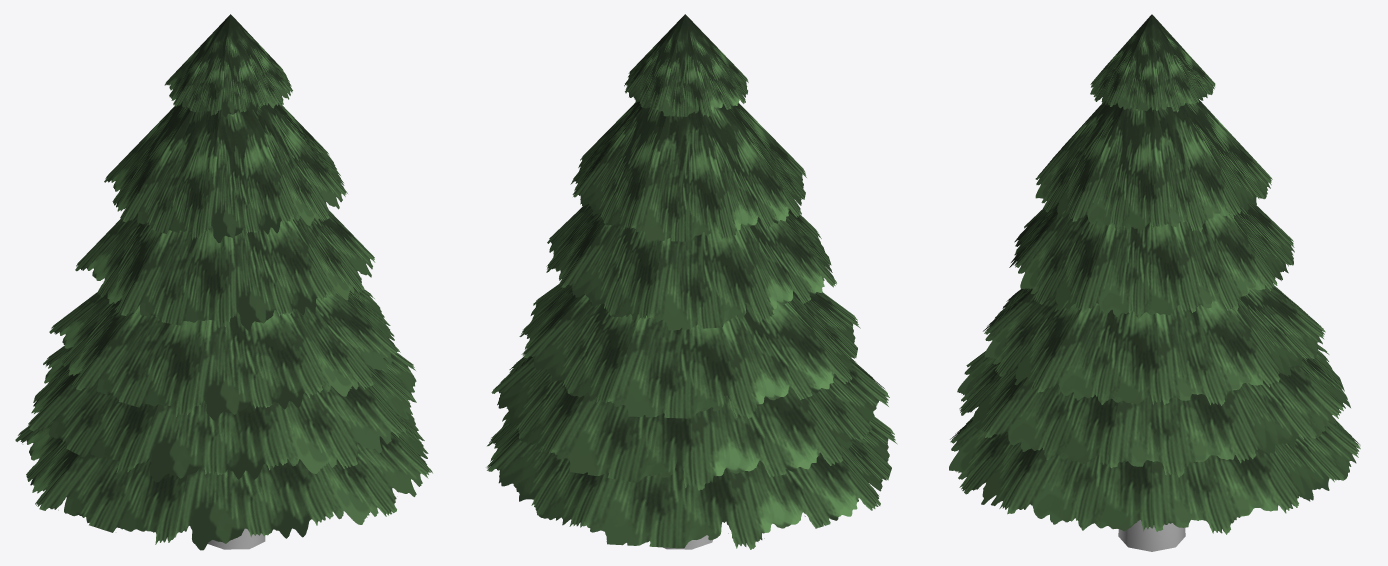
The model's file is Pinheiro Final.fbx.
3 renders of one model, left to right at view 1: azimuth 30°, elevation 25°; view 2: azimuth 150°, elevation 25°; view 3: azimuth 270°, elevation 25°, orthographic.
Visible parts, largest first — view 1: pCone3, pCone1, pCone2, pCone5, pCone4, pCone6, extrudedSurface1; view 2: pCone3, pCone2, pCone1, pCone5, pCone4, pCone6; view 3: pCone3, pCone2, pCone1, pCone4, pCone5, pCone6, extrudedSurface1.
Boxes of the visible parts, x1,y1,x2,y2 form: pCone3: (49, 286, 400, 420); pCone1: (15, 412, 432, 550); pCone2: (28, 346, 416, 482); pCone5: (104, 101, 347, 242); pCone4: (75, 210, 375, 330); pCone6: (164, 14, 292, 117); extrudedSurface1: (208, 528, 265, 549); pCone3: (519, 284, 860, 418); pCone2: (491, 355, 889, 490); pCone1: (486, 406, 897, 549); pCone5: (570, 101, 806, 241); pCone4: (546, 203, 836, 330); pCone6: (624, 14, 748, 116); pCone3: (983, 284, 1325, 405); pCone2: (957, 345, 1350, 477); pCone1: (949, 417, 1360, 534); pCone4: (1009, 202, 1294, 318); pCone5: (1035, 99, 1272, 231); pCone6: (1090, 14, 1215, 112); extrudedSurface1: (1118, 520, 1185, 551).
Size of the model in its own units: 13.63 by 17.75 by 13.63.
